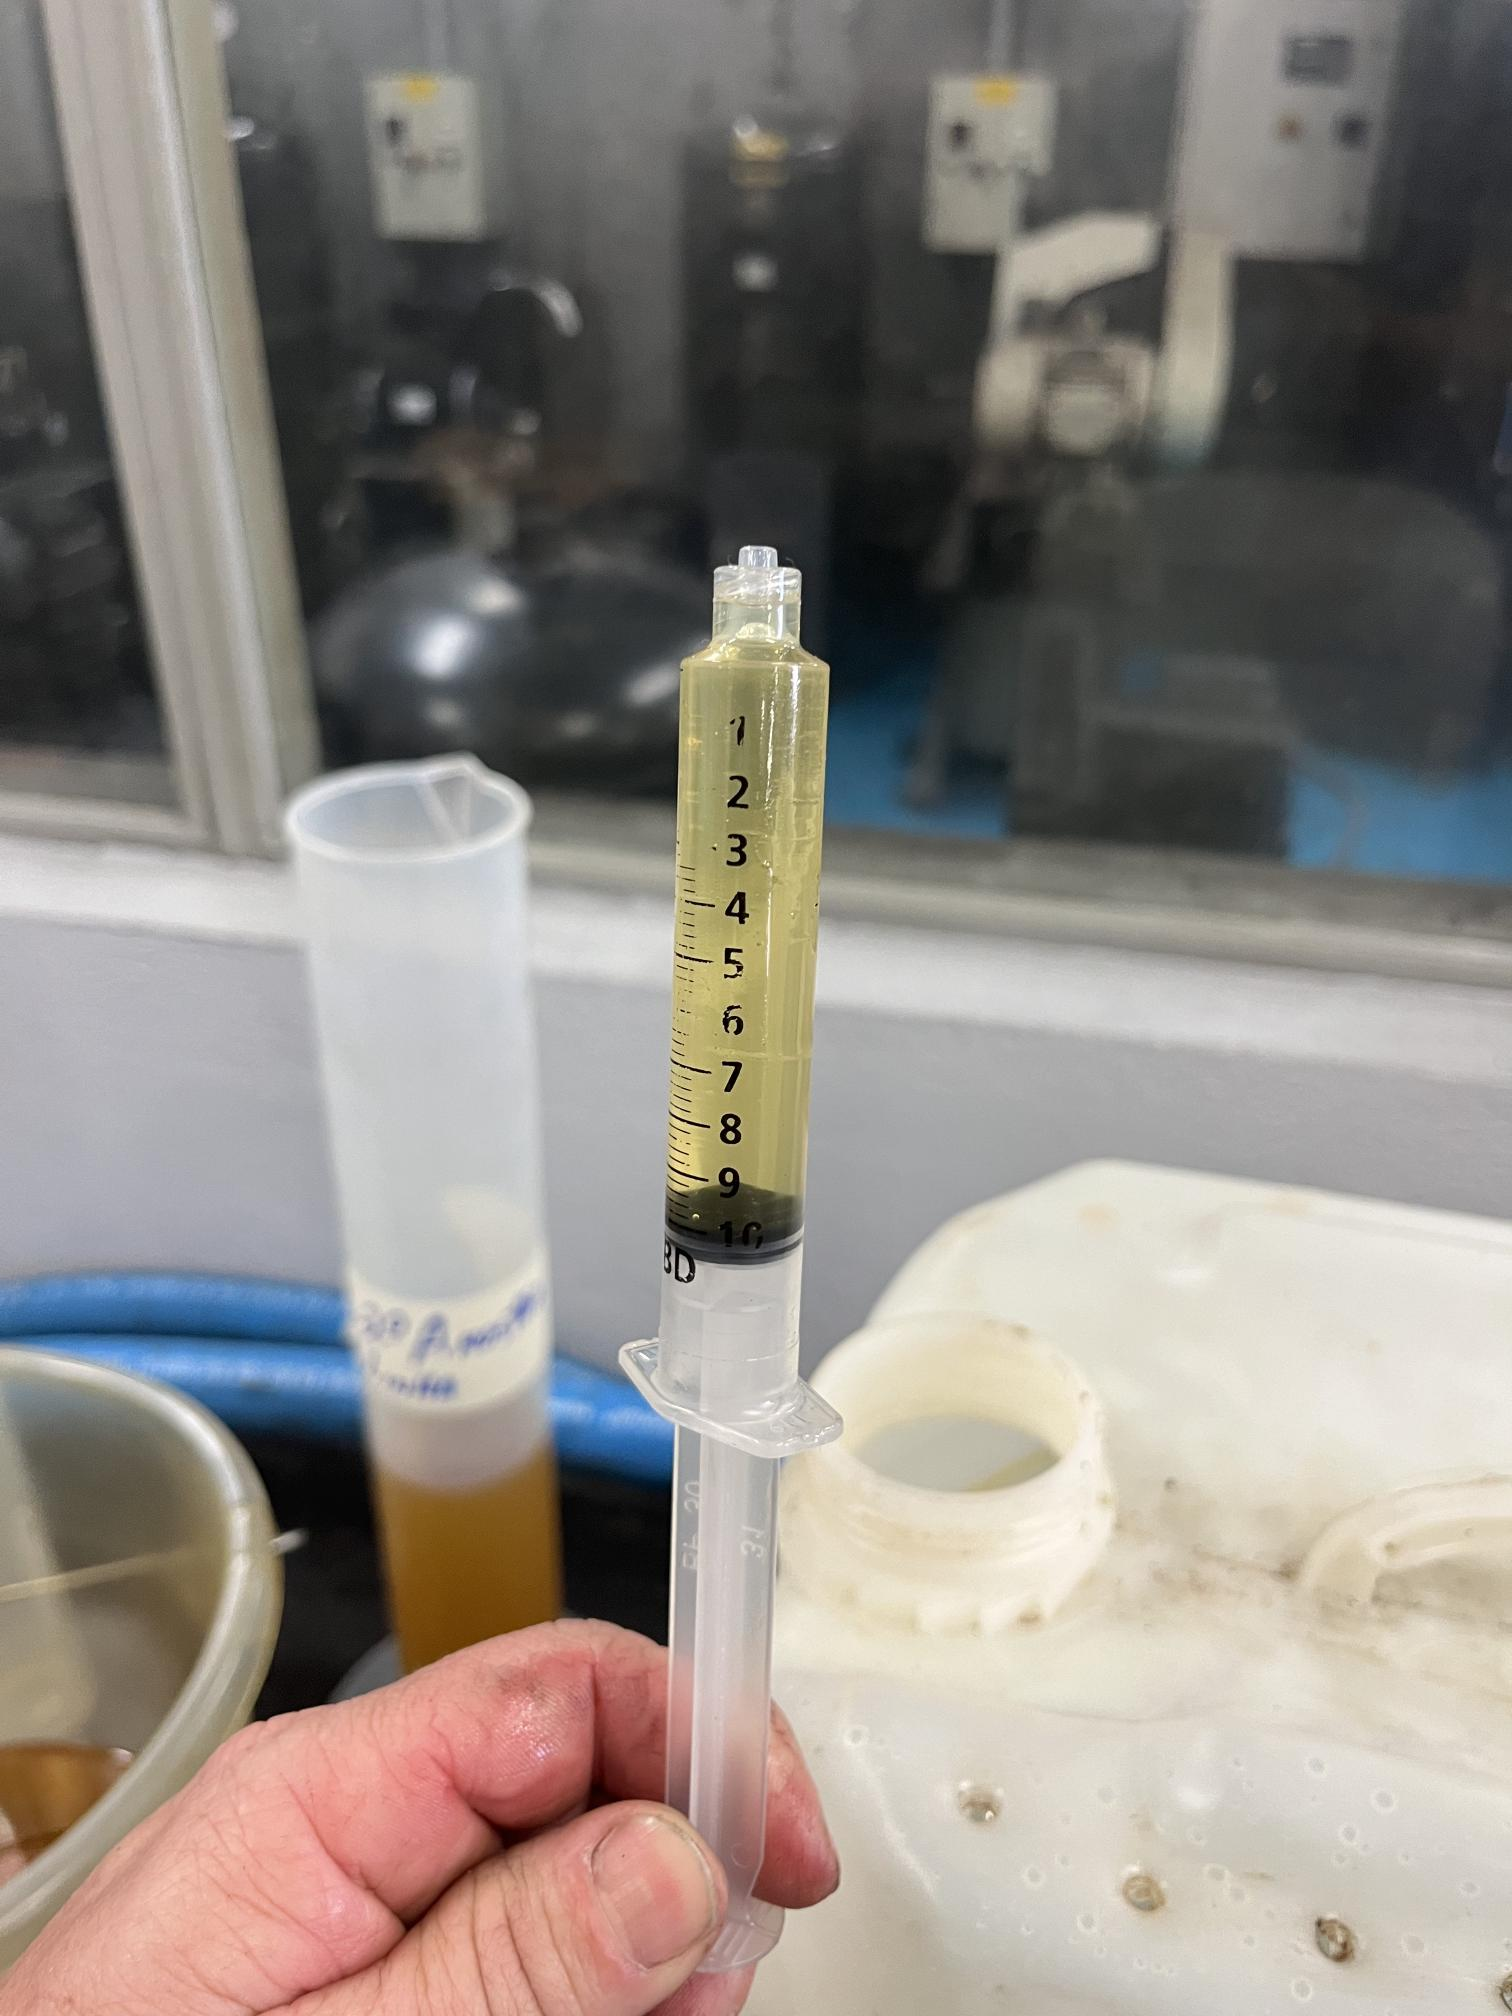Seringa de Oleo - 10ml: (580, 480, 910, 1400)
